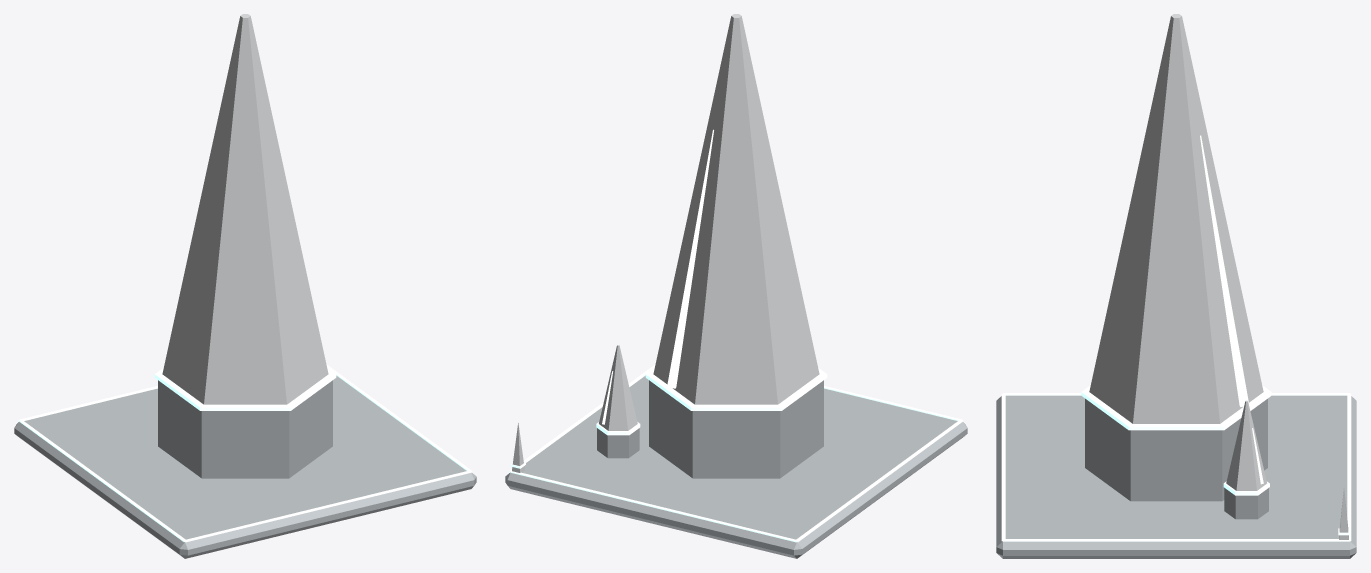
Rendered from zone_high_4_t1.glb.
The picture shows the model from 3 angles, left to right: view 1: azimuth 30°, elevation 25°; view 2: azimuth 150°, elevation 25°; view 3: azimuth 270°, elevation 25°; orthographic projection. The views are drawn at different scales.
Parts seen in each view (by area): view 1: zone_high_4_t1, detail; view 2: zone_high_4_t1, detail; view 3: zone_high_4_t1, detail.
Boxes of the visible parts, box(x1,y1,x2,y2) form: zone_high_4_t1: box(14, 14, 476, 558); detail: box(18, 364, 472, 542); zone_high_4_t1: box(505, 14, 967, 558); detail: box(509, 364, 963, 542); zone_high_4_t1: box(996, 14, 1356, 558); detail: box(1001, 393, 1351, 541).
Bounding box in the file's own units: 27.5 × 39.59 × 27.5.
